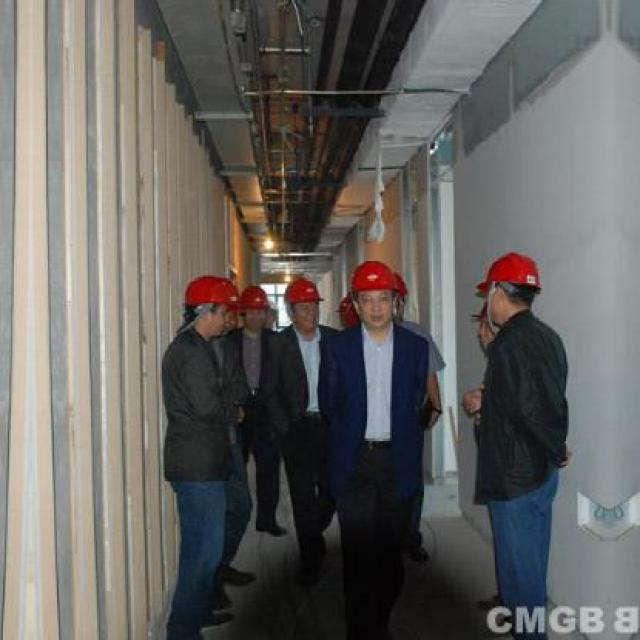helmet: (474, 250, 544, 325), (346, 252, 405, 330), (180, 272, 238, 334), (283, 272, 320, 331), (239, 286, 271, 336), (333, 292, 356, 336)
